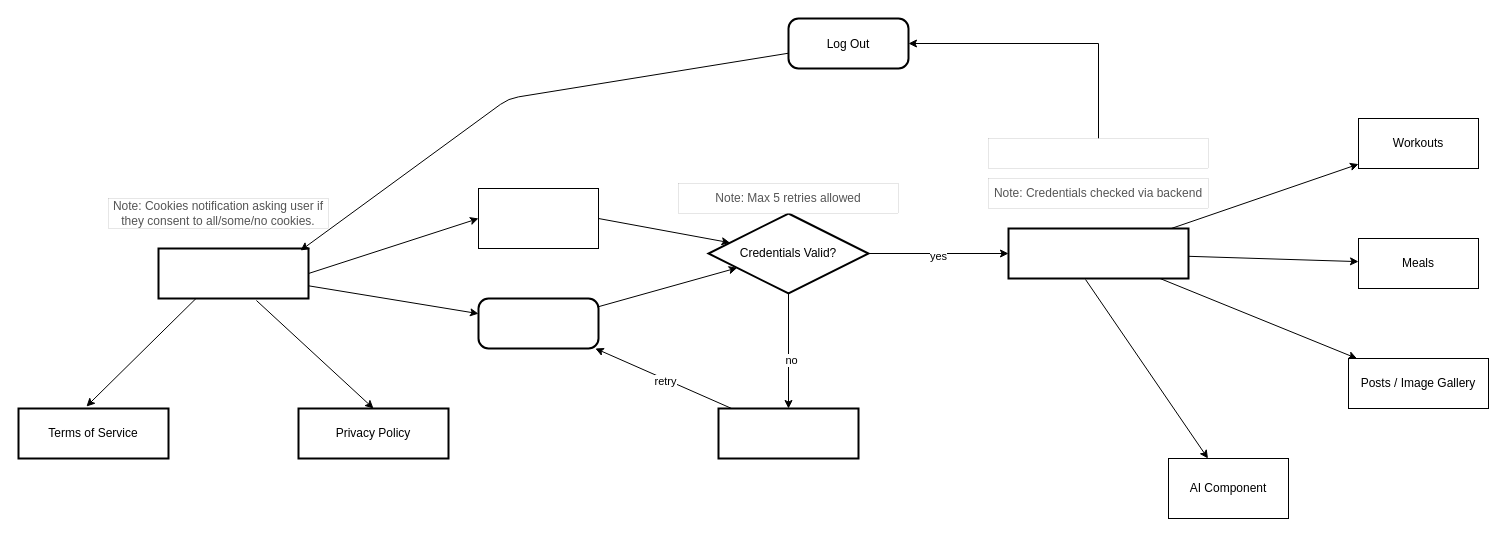
Some shapes in this 1506 by 536 pixel diagram are drawn without their labels. Here are the shapes that lost their labels. From the top down, the centre of each, then its label:
point 1098,153: Note: Logout will be an option from any page after the sign in
point 538,218: registration page
point 233,273: Landing Page
point 1098,253: Dashboard / User Profile
point 538,323: Sign In
point 788,433: Error Message
